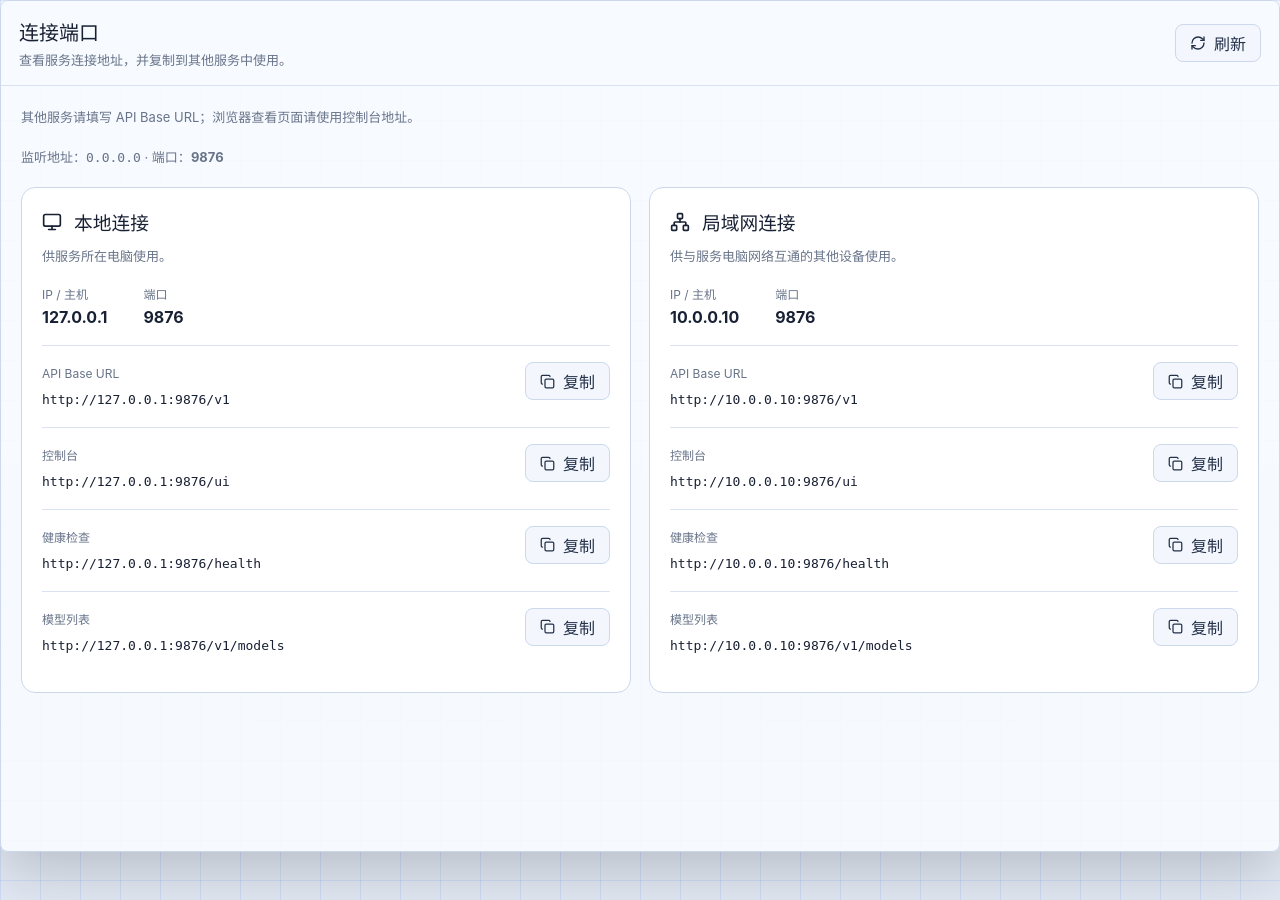
Test: connection ports page › shows copy failure when the browser rejects copying
Click the button with aria-label "复制局域网 API Base URL". click: (1196, 381)
box: [1153,362,1238,400]
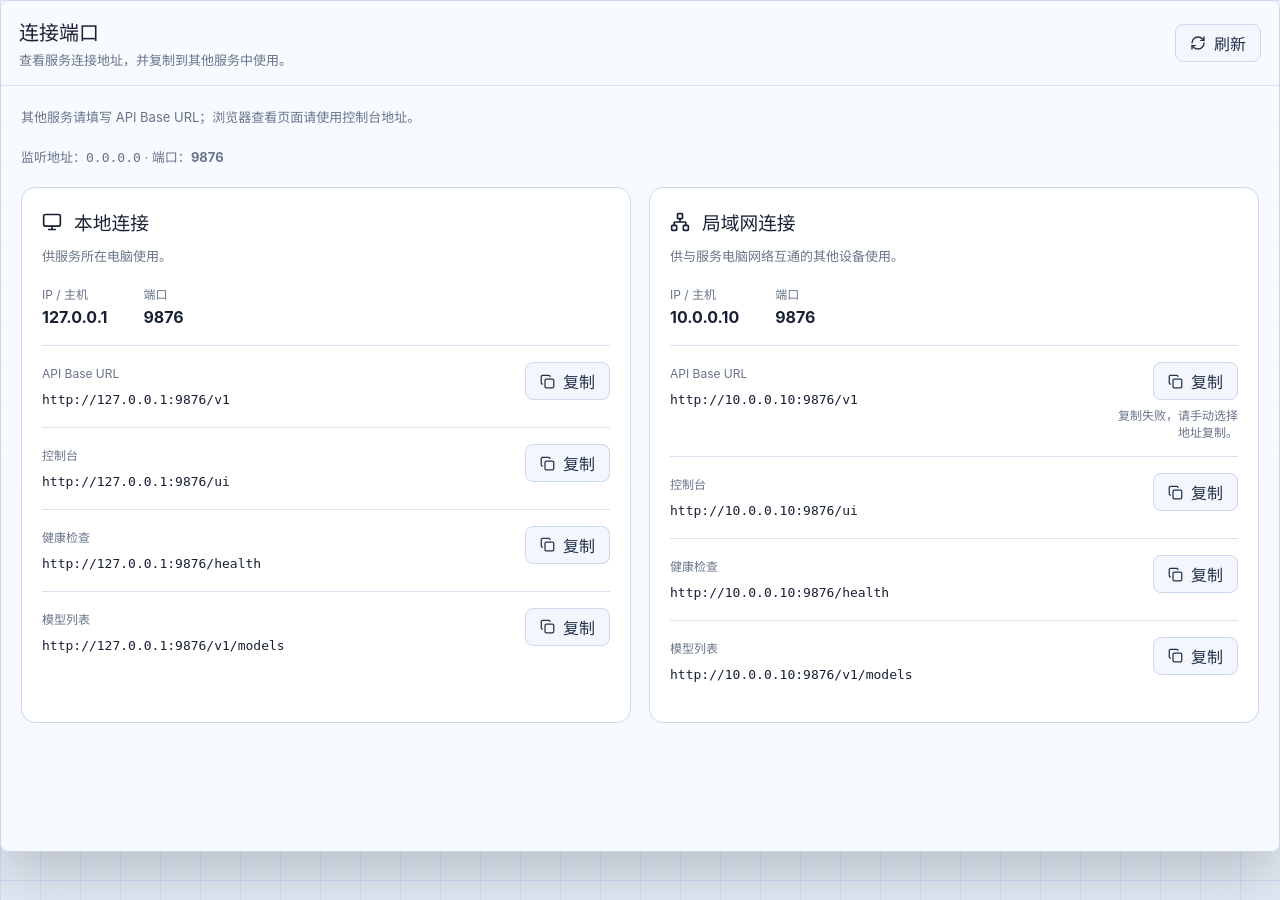
Expected: the text "复制失败，请手动选择地址复制。" is shown, [1108,406,1238,440]
